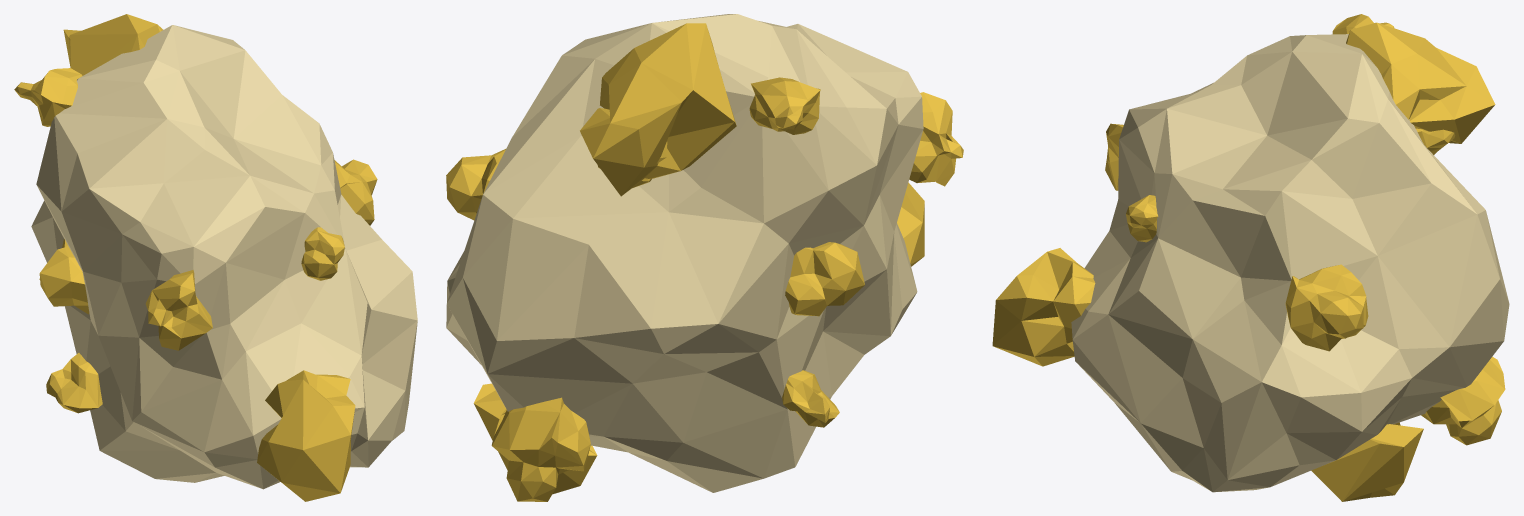
Rendered from MetalOre (57).fbx.
3 views of the same model, side by side, from view 1: azimuth 30°, elevation 25°; view 2: azimuth 150°, elevation 25°; view 3: azimuth 270°, elevation 25° (orthographic). The views are drawn at different scales.
Visible parts, largest first — view 1: Asteroid412; view 2: Asteroid412; view 3: Asteroid412.
Part boxes in pixels (left/top/right/bottom): Asteroid412: left=14, top=14, right=417, bottom=501; Asteroid412: left=446, top=14, right=963, bottom=501; Asteroid412: left=992, top=14, right=1509, bottom=501.
Size of the model in its own units: 217 by 260 by 292.
